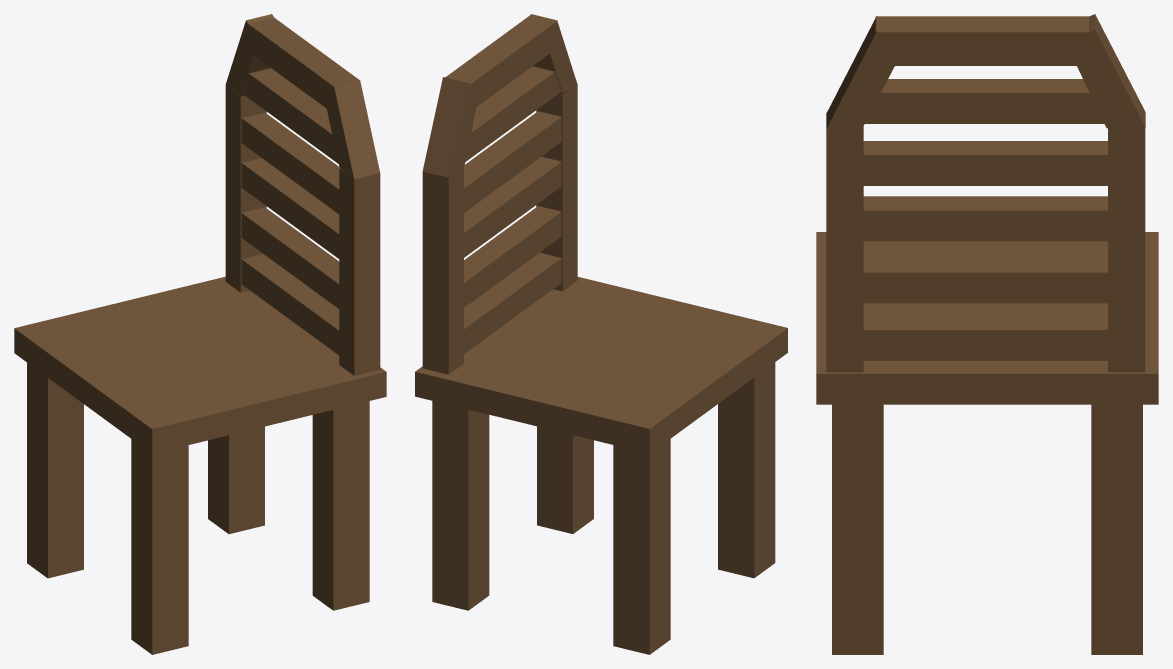
Rendered from Стул.fbx.
The picture shows the model from 3 angles, left to right: view 1: azimuth 30°, elevation 25°; view 2: azimuth 150°, elevation 25°; view 3: azimuth 270°, elevation 25°; orthographic projection. The views are drawn at different scales.
Parts seen in each view (by area): view 1: Куб.005; view 2: Куб.005; view 3: Куб.005.
Boxes of the visible parts, <box> form: Куб.005: <box>14,14,386,654</box>; Куб.005: <box>415,14,787,654</box>; Куб.005: <box>816,14,1158,654</box>.
Bounding box in the file's own units: 259 × 537 × 264.
